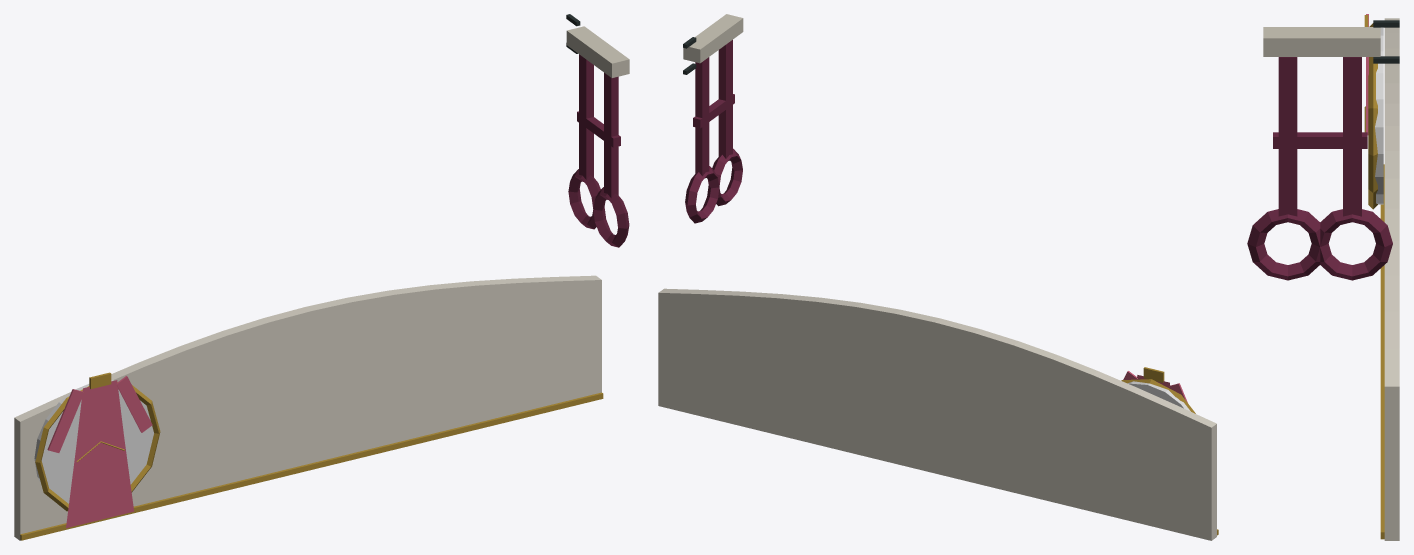
Rendered from bang_nha_may_thanh_thao_48.glb.
3 views of the same model, side by side, from view 1: azimuth 30°, elevation 25°; view 2: azimuth 150°, elevation 25°; view 3: azimuth 270°, elevation 25° (orthographic). The views are drawn at different scales.
Parts seen in each view (by area): view 1: bang_nha_may_thanh_thao_48; view 2: bang_nha_may_thanh_thao_48; view 3: bang_nha_may_thanh_thao_48.
Boxes of the visible parts, x1=… form: bang_nha_may_thanh_thao_48: x1=14, y1=14, x2=629, y2=540; bang_nha_may_thanh_thao_48: x1=658, y1=14, x2=1218, y2=540; bang_nha_may_thanh_thao_48: x1=1247, y1=14, x2=1399, y2=540.
Bounding box in the file's own units: 4.6 × 2.93 × 0.805.
